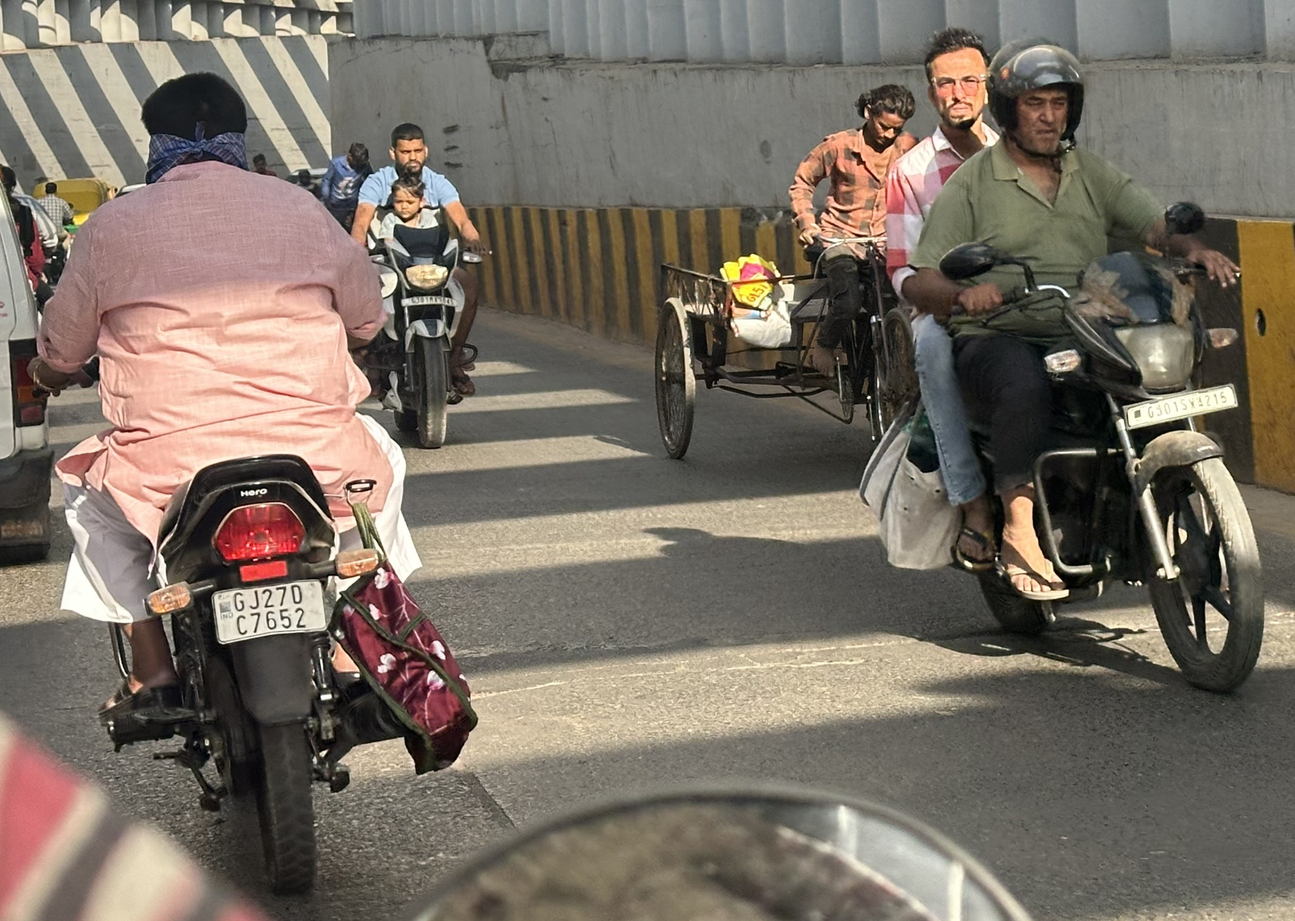BikeWithRider: (22, 61, 486, 907), (847, 17, 1278, 704), (338, 115, 499, 456)
Helmet: (975, 31, 1103, 163)
NoHelmet: (126, 63, 265, 188), (911, 20, 1003, 137), (844, 77, 925, 154), (382, 118, 435, 177), (376, 177, 437, 225)
